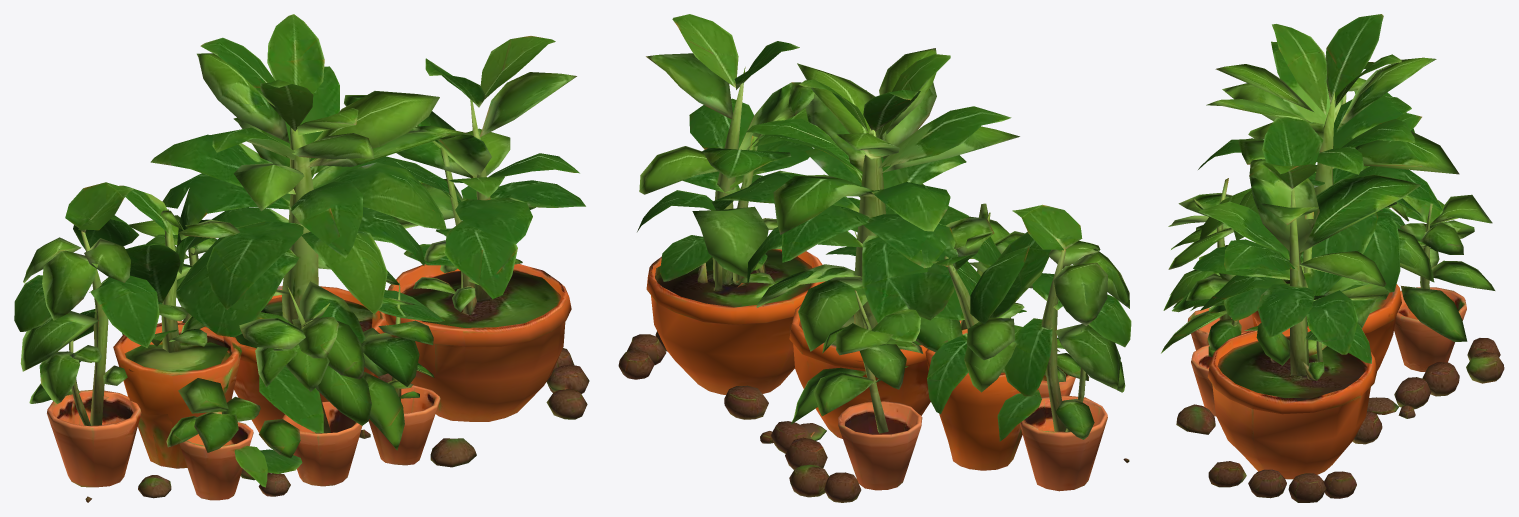
The model's file is plant-cluster.glb.
The picture shows the model from 3 angles, left to right: view 1: azimuth 30°, elevation 25°; view 2: azimuth 150°, elevation 25°; view 3: azimuth 270°, elevation 25°; orthographic projection. The views are drawn at different scales.
Size of the model in its own units: 1 by 0.6939 by 0.6168.
1 material, 1 textured.
